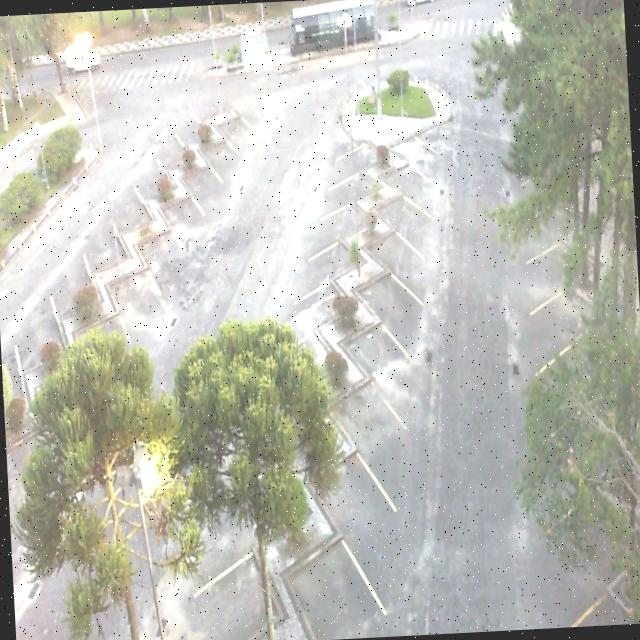empty: (182, 523, 288, 640), (288, 499, 376, 635), (314, 436, 402, 558), (329, 360, 406, 472), (346, 303, 416, 393), (349, 251, 417, 328), (44, 220, 101, 308), (12, 270, 66, 362), (279, 262, 349, 330), (106, 244, 159, 326), (365, 206, 428, 274), (78, 188, 130, 268), (304, 212, 365, 270), (136, 203, 182, 276), (304, 180, 367, 233), (374, 168, 431, 226), (156, 168, 203, 235), (109, 165, 157, 230), (384, 140, 438, 191), (328, 148, 383, 196), (394, 116, 446, 165), (133, 134, 175, 194), (182, 143, 226, 200), (197, 109, 241, 166), (172, 86, 214, 143), (329, 119, 383, 162), (155, 112, 196, 168), (215, 89, 253, 143)
